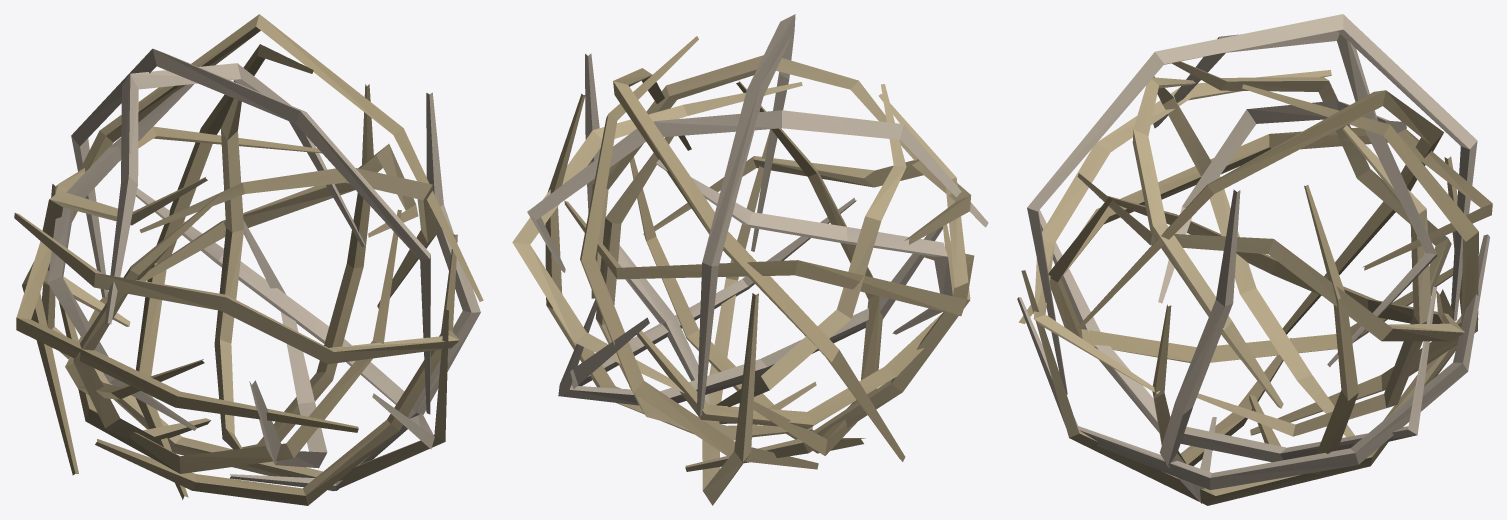
File: tumbleweed.glb
The picture shows the model from 3 angles, left to right: view 1: azimuth 30°, elevation 25°; view 2: azimuth 150°, elevation 25°; view 3: azimuth 270°, elevation 25°; orthographic projection. The views are drawn at different scales.
Bounding box in the file's own units: 0.7831 × 0.7489 × 0.7424.
